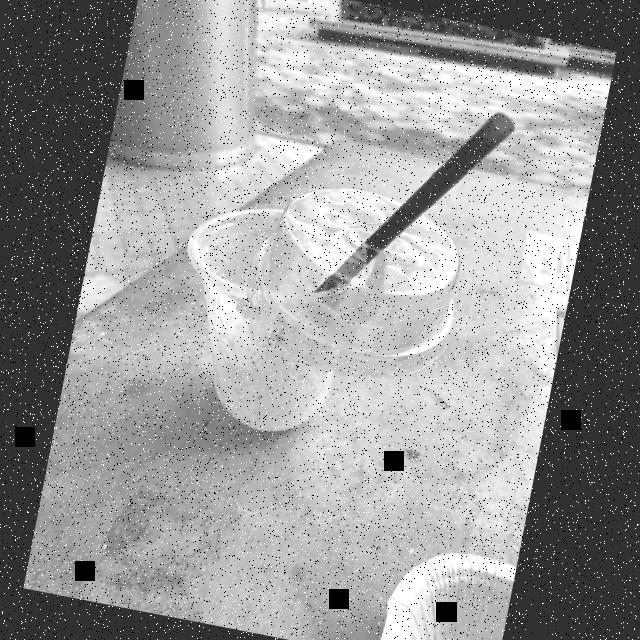plastic_cup: (154, 188, 376, 444)
plastic_cup_lid: (232, 168, 484, 392)
straw: (327, 82, 518, 311)
